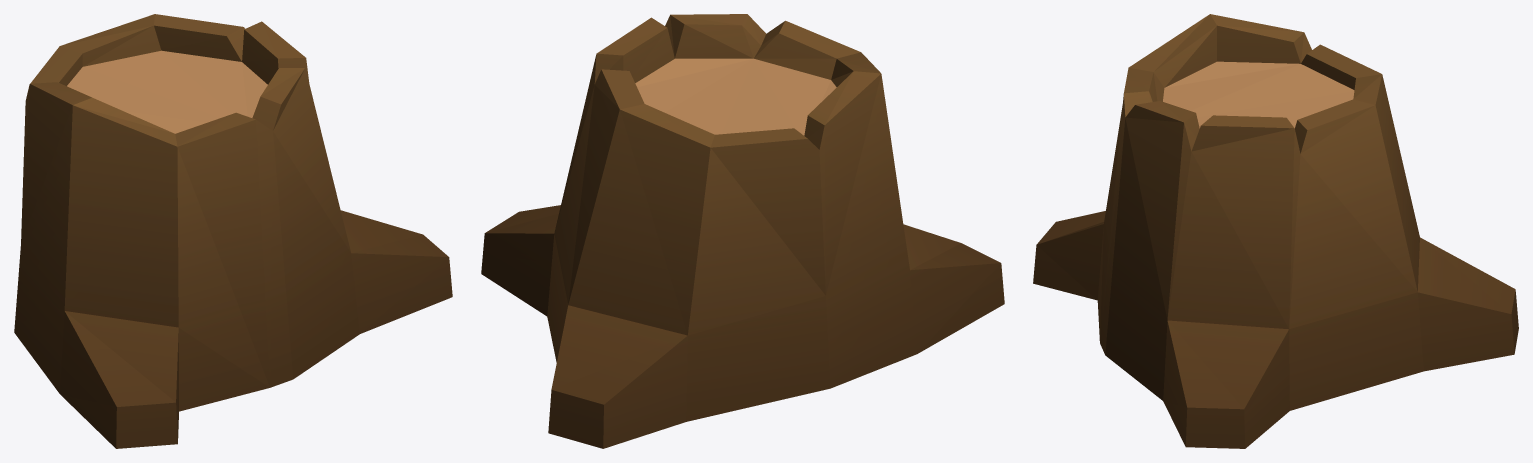
File: Stump_02.fbx
3 renders of one model, left to right at view 1: azimuth 30°, elevation 25°; view 2: azimuth 150°, elevation 25°; view 3: azimuth 270°, elevation 25°, orthographic. The views are drawn at different scales.
Visible parts, largest first — view 1: Stump_02; view 2: Stump_02; view 3: Stump_02.
Part boxes in pixels (x1,y1,x2,y2): Stump_02: (14, 14, 452, 448); Stump_02: (481, 14, 1004, 448); Stump_02: (1033, 14, 1518, 448).
Size of the model in its own units: 71.88 by 46.19 by 76.98.
